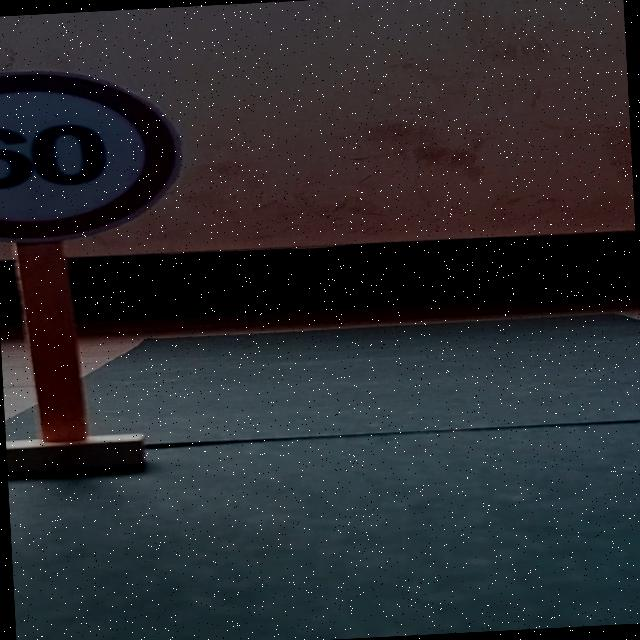Speed60: (0, 59, 183, 242)
